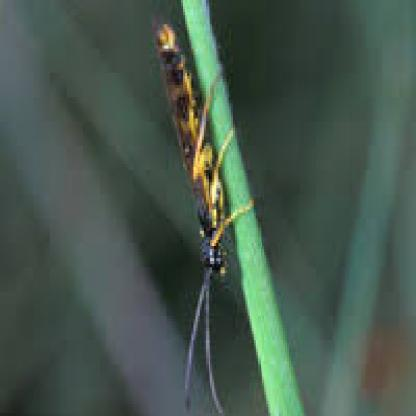sawfly: (146, 23, 255, 416)
